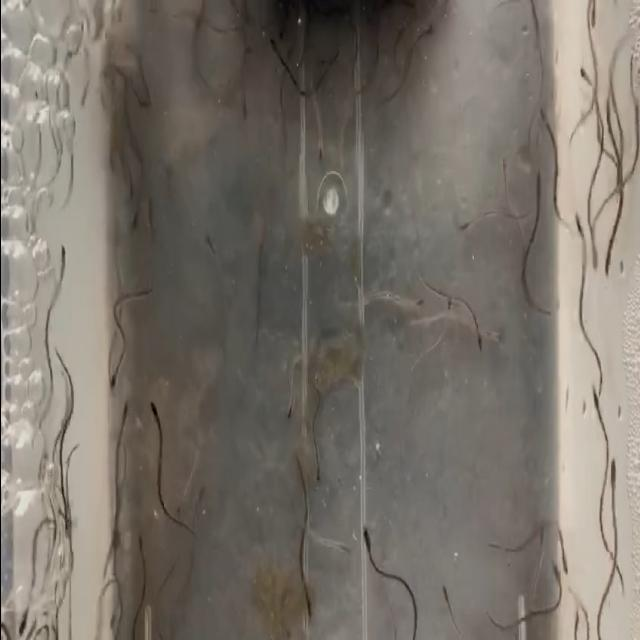active_glass_eel: (531, 162, 549, 214), (554, 526, 572, 576), (588, 220, 604, 276), (600, 230, 618, 279), (482, 316, 506, 352), (548, 550, 564, 600), (53, 242, 69, 292), (438, 578, 456, 622), (572, 207, 586, 259), (456, 209, 478, 242), (604, 451, 620, 495), (362, 524, 376, 570), (283, 384, 297, 429), (498, 148, 511, 196), (150, 391, 164, 435), (125, 198, 139, 242), (202, 228, 218, 266), (106, 360, 122, 396), (614, 158, 626, 205), (334, 534, 354, 562), (590, 386, 604, 425), (16, 601, 30, 640), (238, 94, 252, 133), (536, 102, 553, 134), (107, 597, 121, 635), (267, 35, 283, 67), (470, 316, 482, 358), (312, 132, 324, 174), (60, 512, 72, 554), (142, 196, 155, 234), (590, 0, 602, 41), (574, 65, 590, 95), (536, 518, 548, 558), (239, 37, 259, 60), (569, 605, 582, 640), (308, 454, 322, 486), (144, 0, 164, 22), (526, 0, 540, 31), (118, 397, 130, 432), (408, 290, 424, 316), (442, 292, 454, 326), (416, 23, 436, 43), (302, 590, 312, 626), (135, 533, 145, 569)
